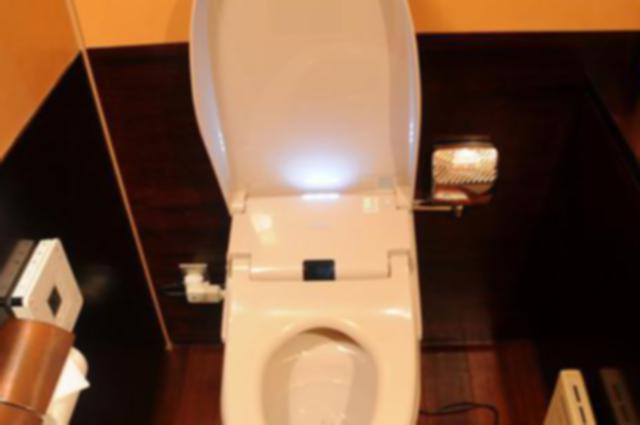Sanitario: (182, 0, 427, 425)
